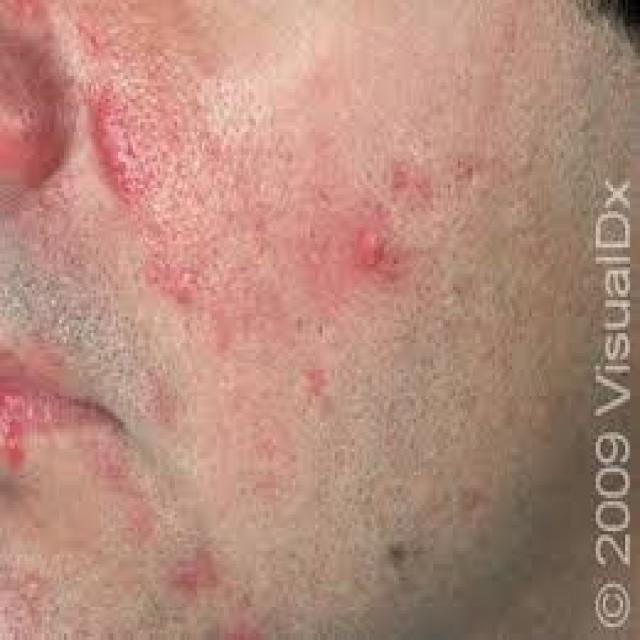Acne: (82, 84, 155, 207), (166, 542, 221, 602), (144, 256, 202, 306), (344, 222, 394, 277), (0, 414, 30, 475)
